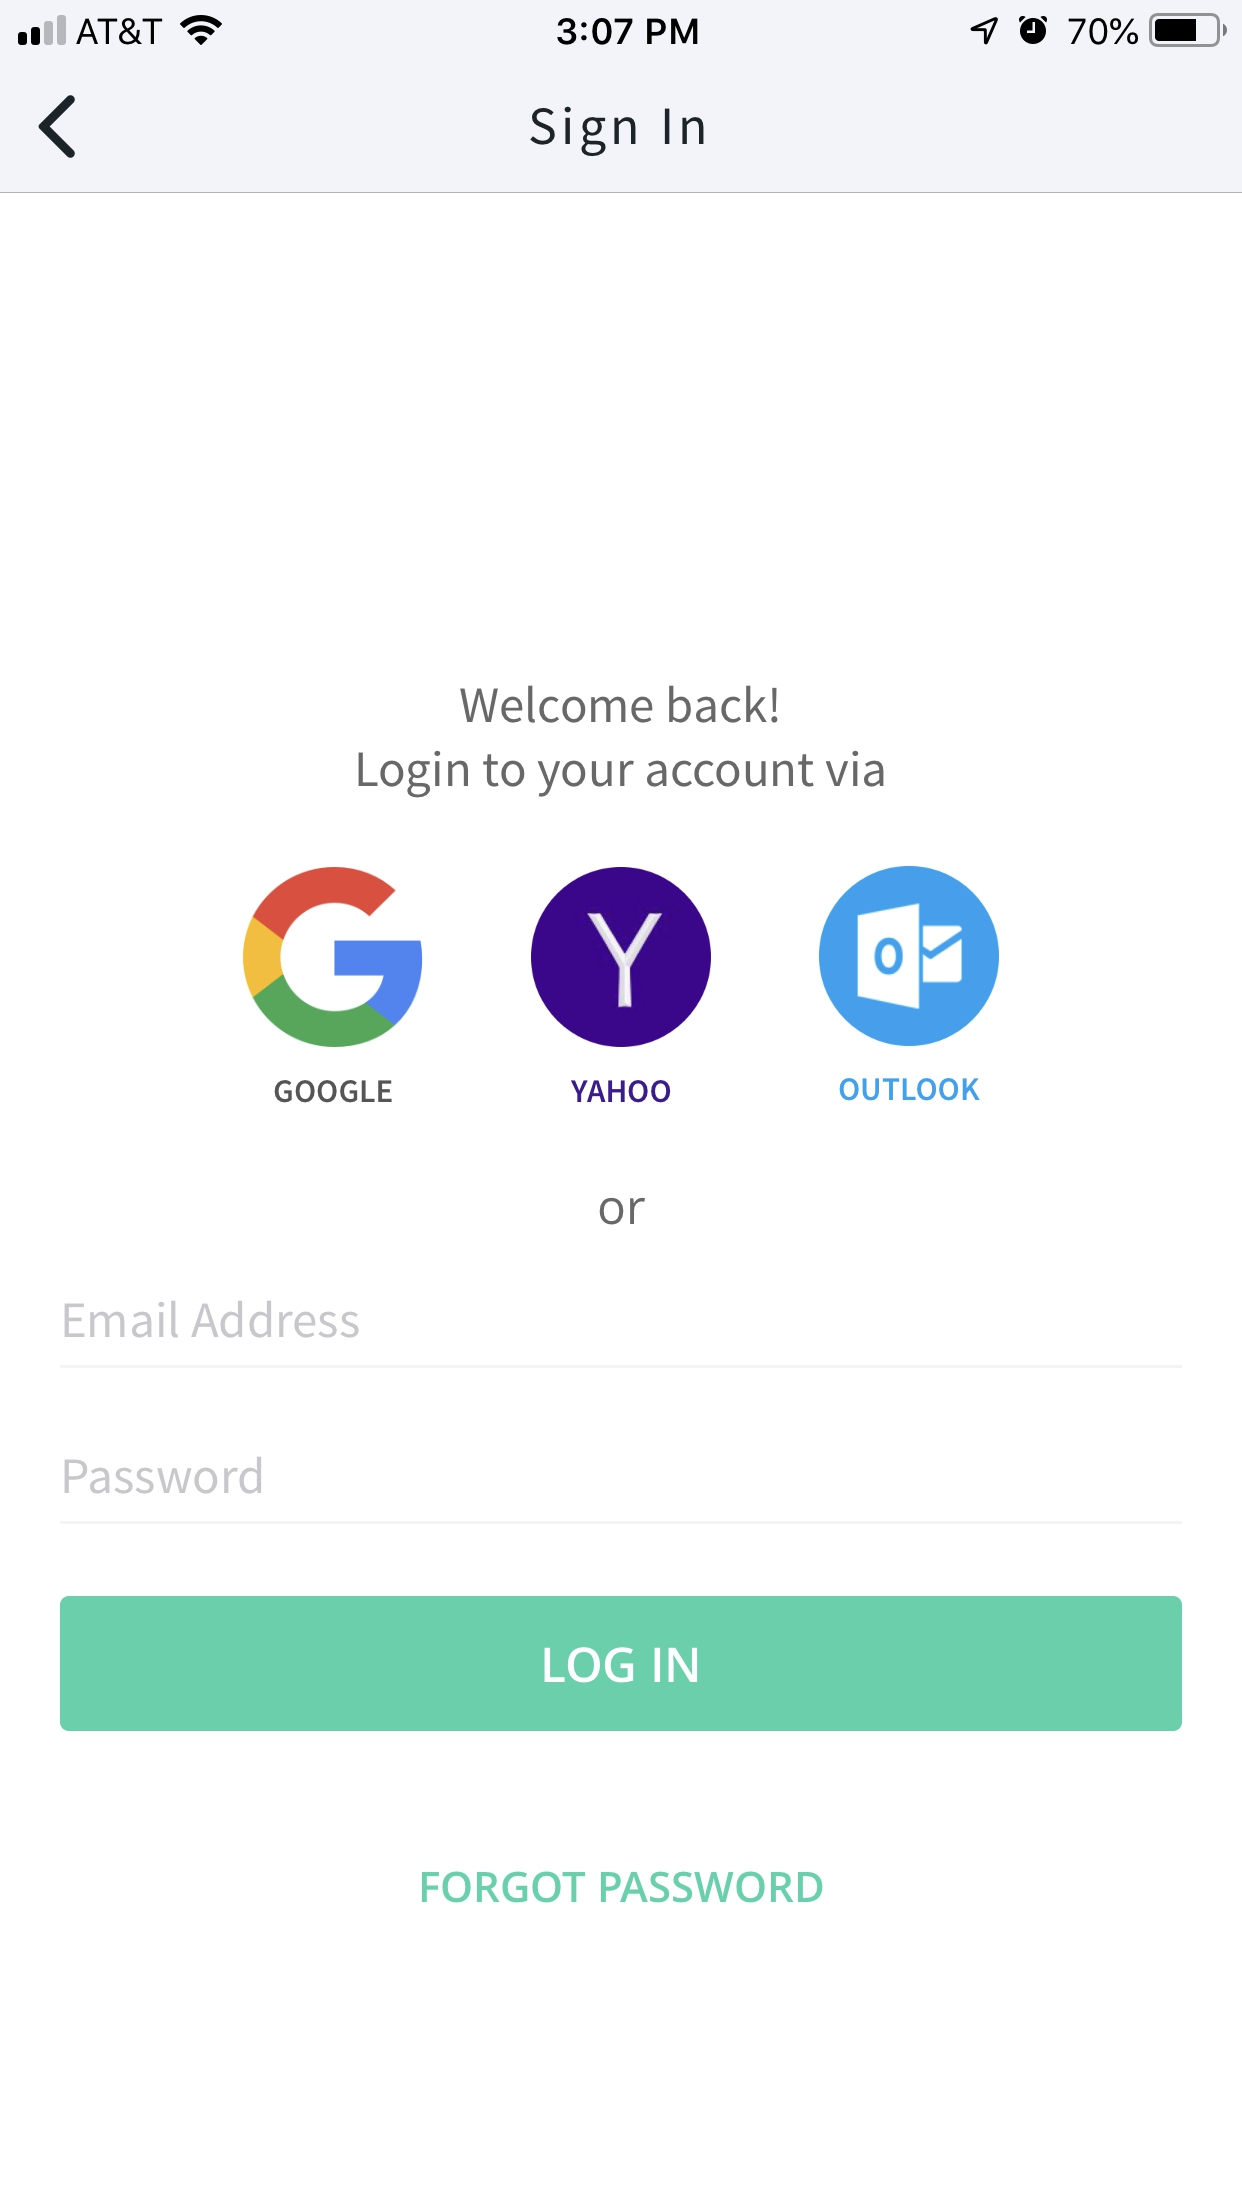EditText: (61, 1300, 1183, 1369), (61, 1456, 1183, 1526)
Icon: (243, 866, 425, 1048), (38, 96, 77, 161)
Image: (529, 867, 713, 1049), (817, 866, 999, 1048)
Text: (358, 684, 886, 799), (422, 1871, 823, 1905), (64, 1300, 359, 1338), (529, 106, 705, 158), (64, 1456, 262, 1495), (839, 1077, 981, 1102), (274, 1080, 394, 1104), (570, 1080, 672, 1104), (597, 1197, 646, 1225)
TextButton: (61, 1595, 1183, 1732)
UpperTaskBar: (2, 2, 1242, 49)
